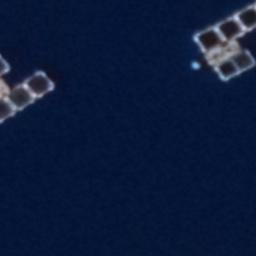square_solid: (189, 24, 228, 58), (2, 80, 38, 113), (21, 69, 58, 101), (210, 11, 247, 41), (210, 55, 241, 84), (227, 44, 256, 73), (232, 1, 256, 33)
